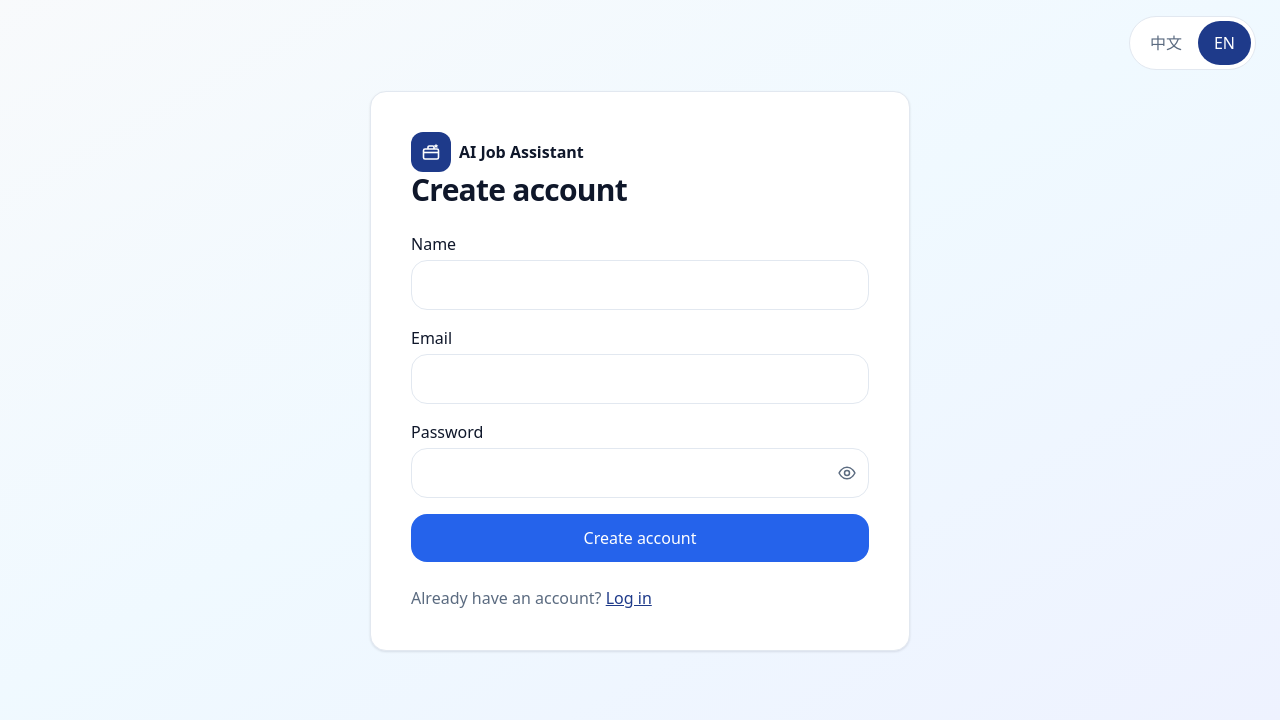
RegisterPage password requirements › focuses the password field and shows red unmet rules after submitting a weak password
The image size is (1280, 720).
In the field labelled "Name": x=640, y=285 [411,260,869,310], type "Ada"
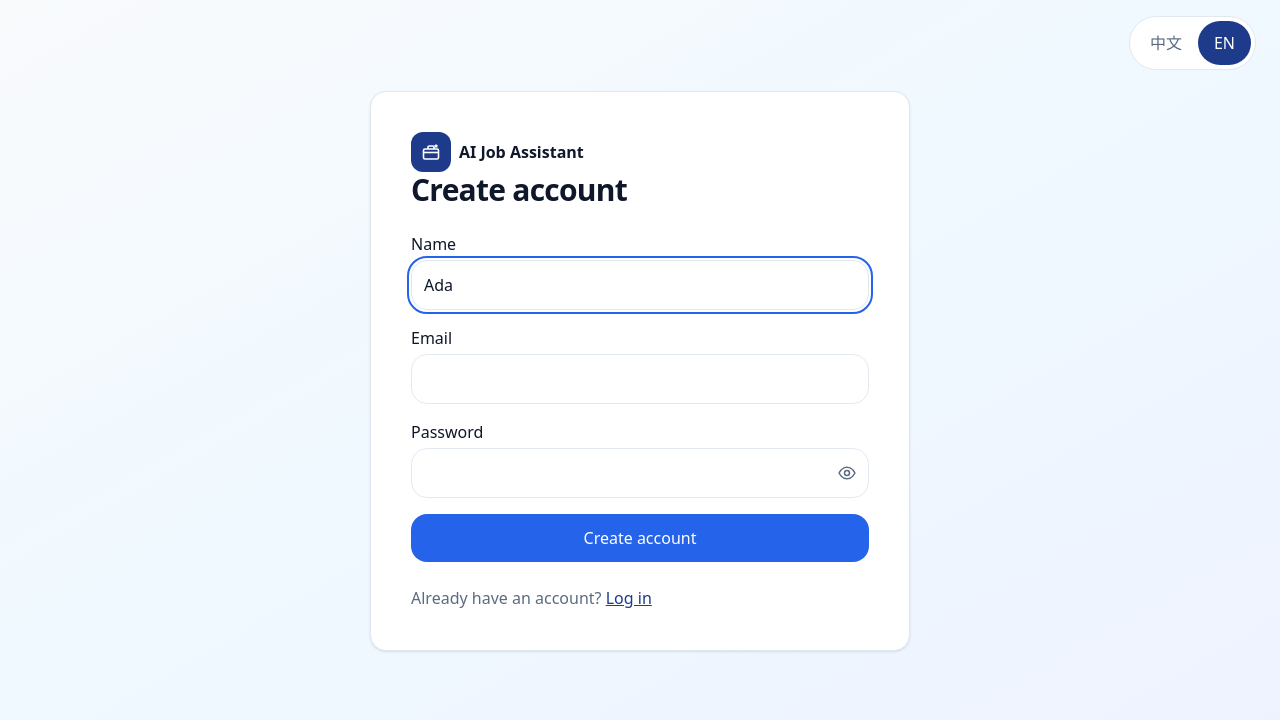
In the field labelled "Email": x=640, y=379 [411,354,869,404], type "ada@example.com"
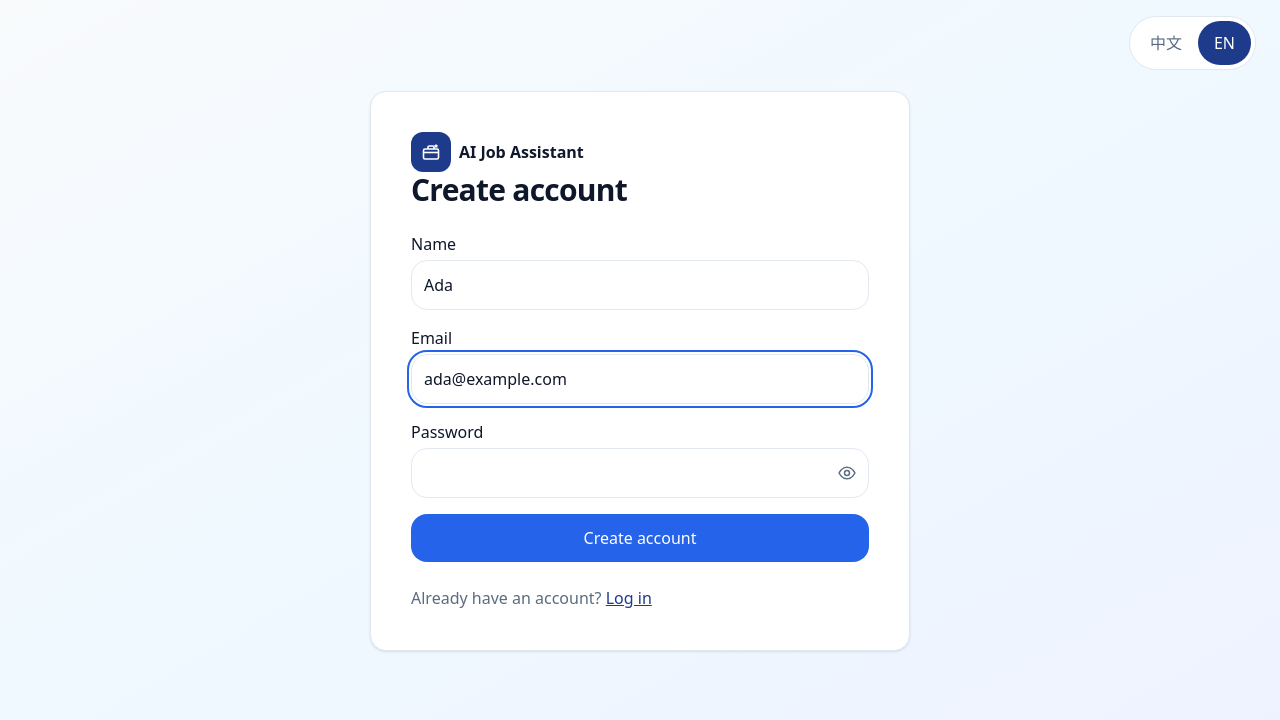
In the password field labelled "Password": x=640, y=473 [411,448,869,498], type "short"
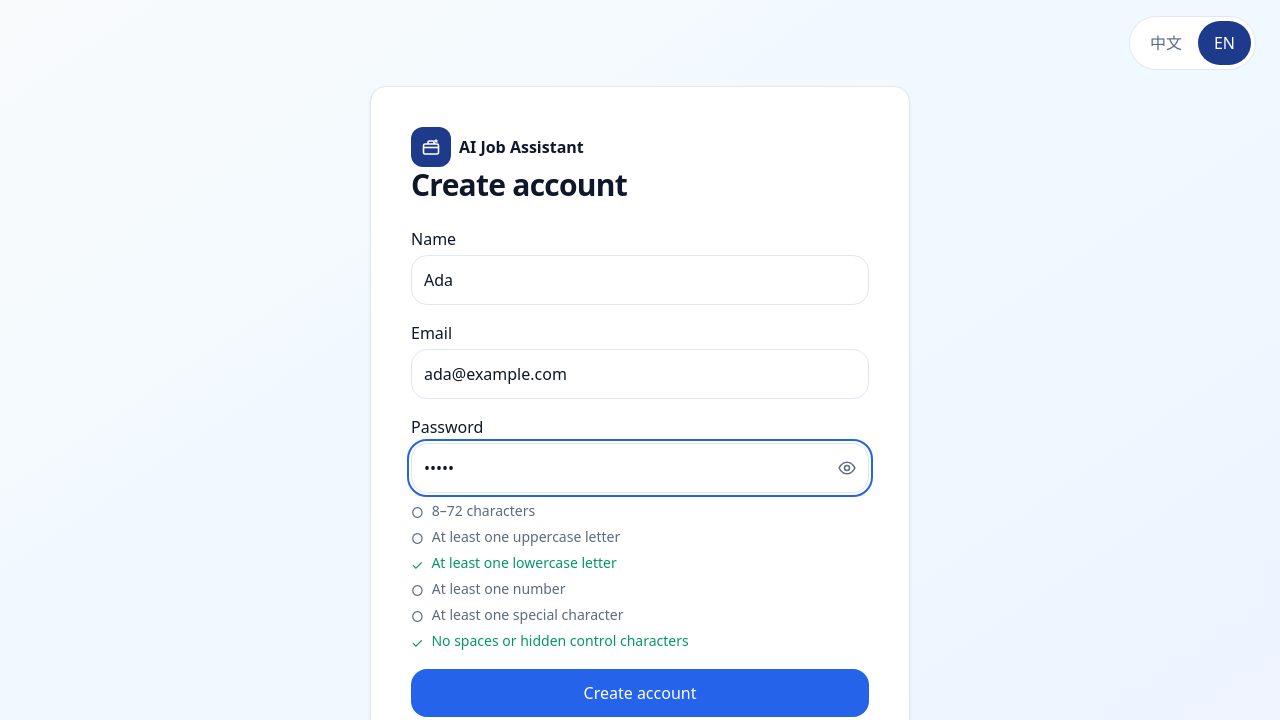
Click the button "Create account": x=640, y=693 [411,669,869,717]
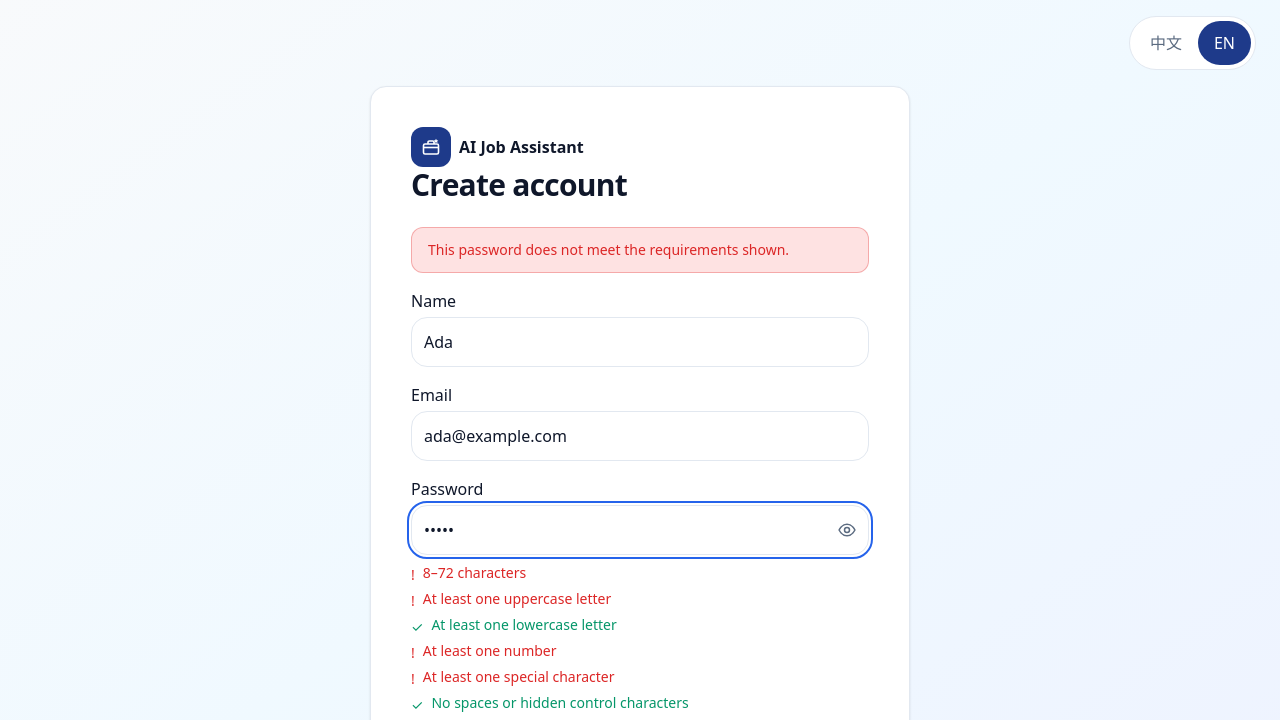
expect the list named "Password requirements" is shown: met, box [411,563,689,714]
expect the text "This password does not meet the requirements shown." is shown: met, box [428,240,852,260]
